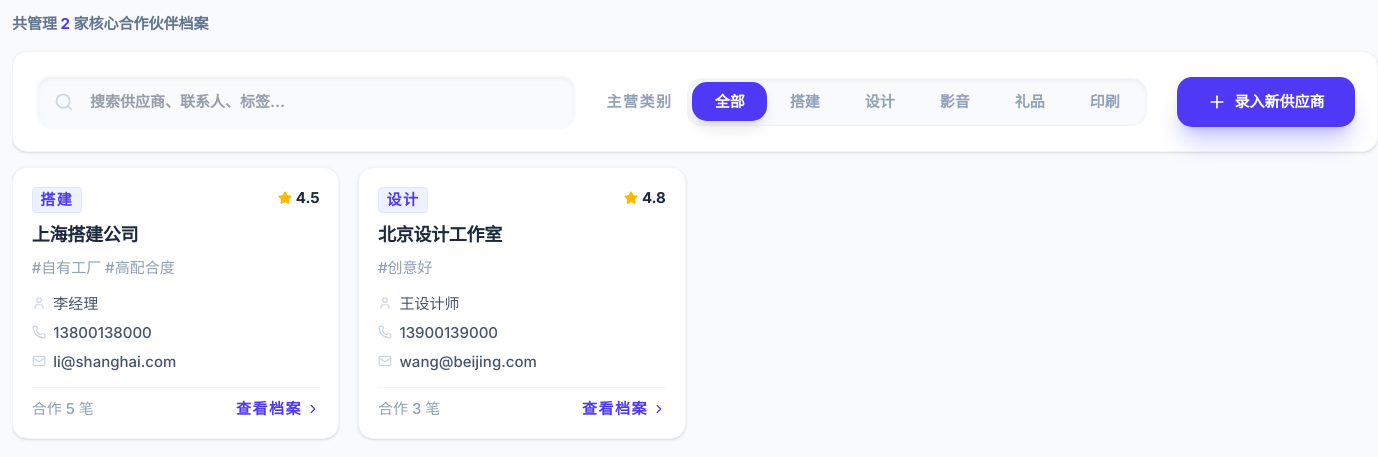
Test case: 供应商管理页面交互测试 › 分类筛选按钮交互 › 切换分类应更新列表
Step 1. Click the button "设计" → point(880, 102), box [842,82,917,121]
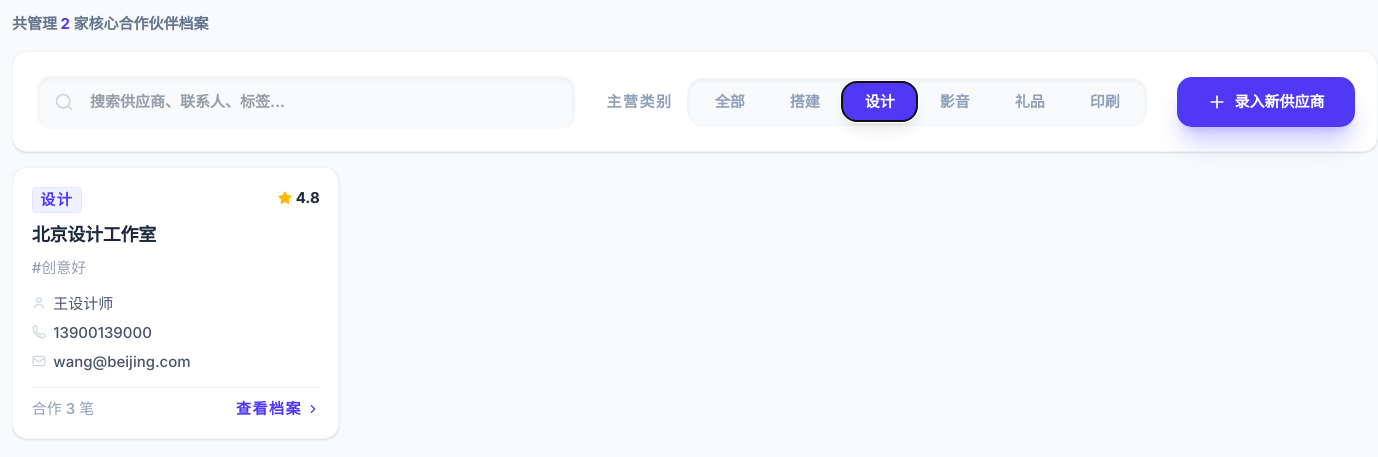
Expected: the heading "北京设计工作室" is shown, [32,224,156,245]
Expected: the heading "上海搭建公司" is gone
